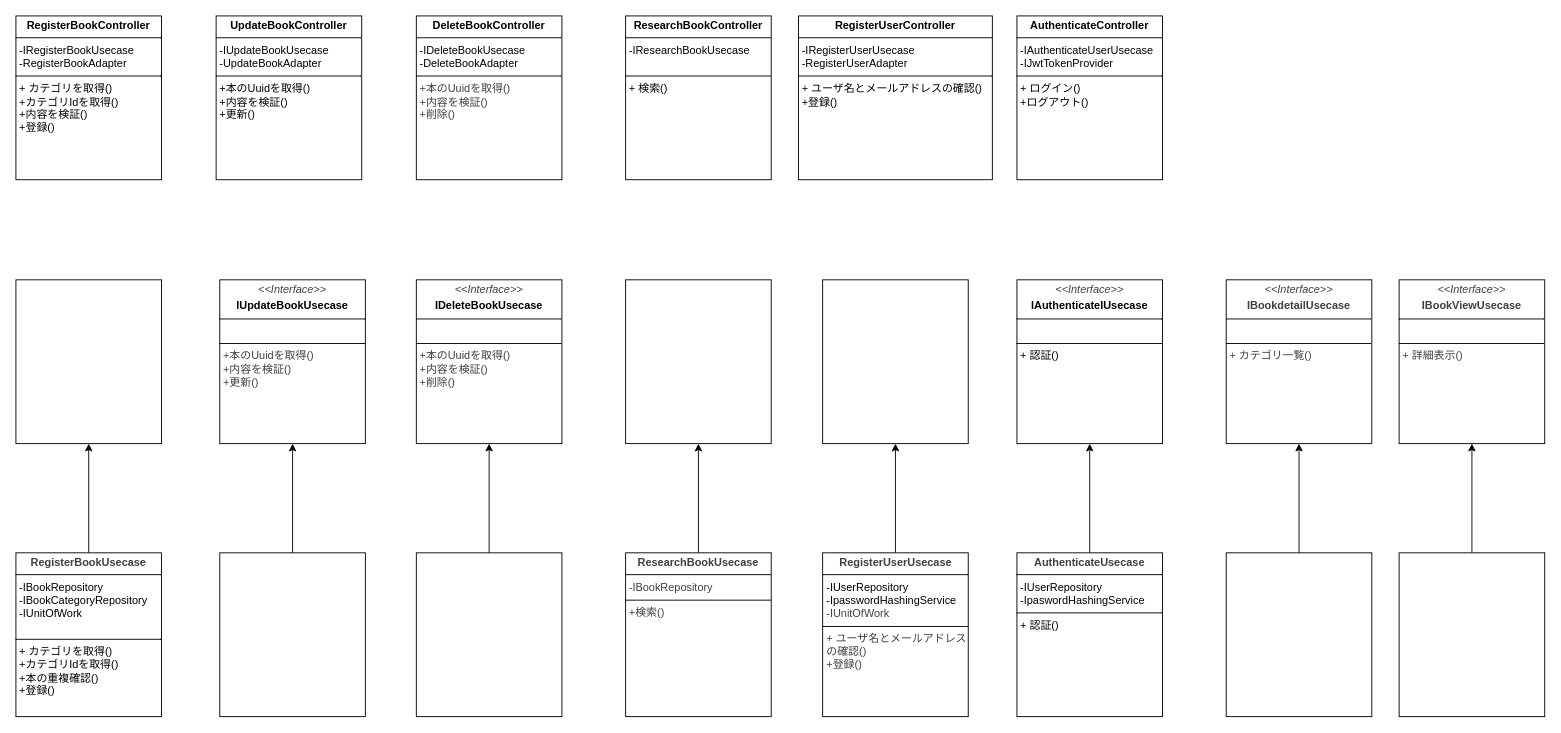
Image size: 1561x733. Some labels were removed from this diagram. The centre of each missing label's shape, as x and y in pixels:
"<<Interface>> IRegisterBookUsecase + カテゴリを取得() +カテゴリIdを取得() +本の重複確認() +登録()" goes at [88,361].
"<<Interface>> IRegisterUserUsecase + ユーザ名とメールアドレスの確認() +登録()" goes at [895,361].
"<<Interface>> IResearchBookUsecase +検索()" goes at [698,361].
"BookdetailUsecase -IBookRepository + カテゴリ一覧()" goes at [1298,634].
"BookViewUsecase -IBookRepository + 詳細表示()" goes at [1471,634].
"DeleteBookUsecase -IBookRepository -IUnitOfWork +本のUuidを取得() +内容を検証() +削除()" goes at [488,634].
"UpdateBookUsecase -IBookRepository -IUnitOfWork +本のUuidを取得() +内容を検証() +更新()" goes at [292,634].
